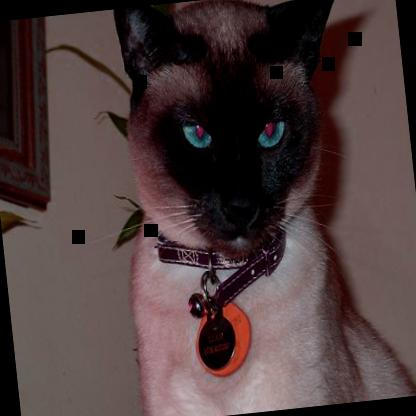cat: (101, 0, 415, 415)
